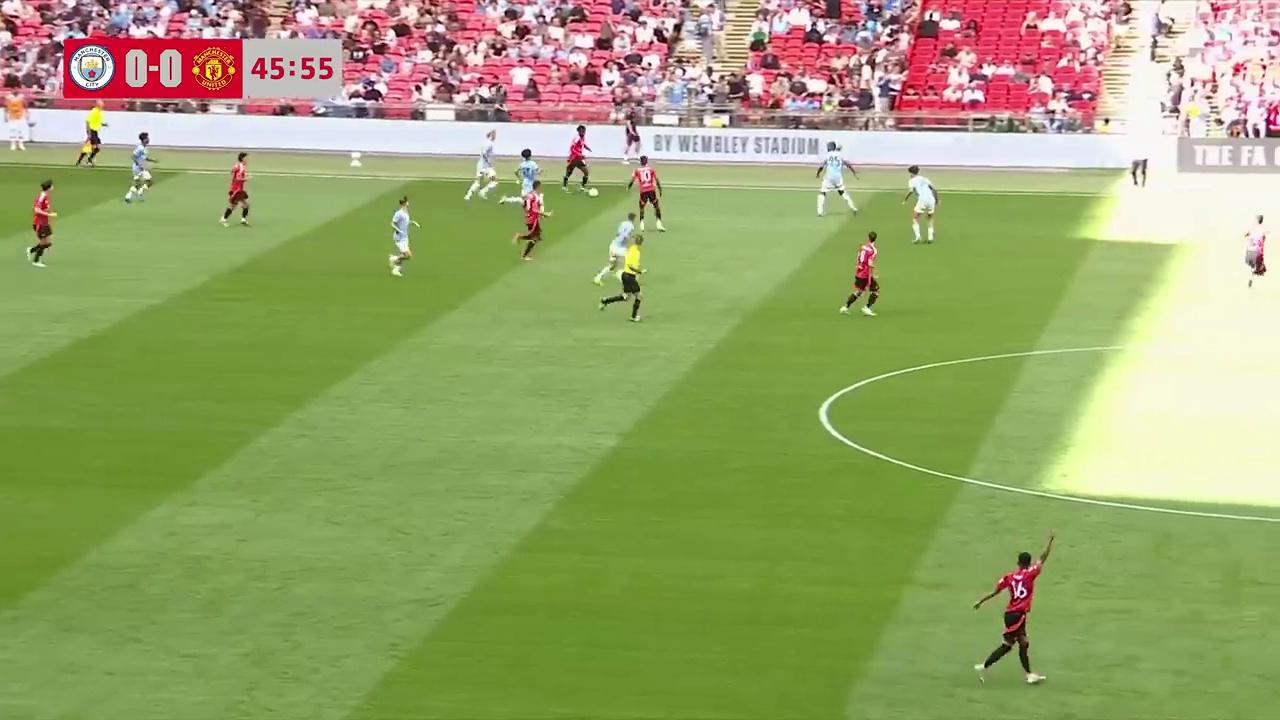ball: (587, 184, 600, 198)
player: (970, 551, 1047, 686), (810, 136, 854, 217), (839, 232, 880, 317), (595, 213, 639, 292), (628, 155, 665, 232), (902, 166, 938, 243), (517, 185, 551, 261), (219, 152, 251, 227), (389, 195, 419, 275), (28, 181, 56, 266), (1242, 212, 1272, 291), (561, 131, 594, 193), (464, 147, 498, 203), (125, 134, 151, 203), (514, 146, 540, 201)
referee: (600, 229, 647, 322), (76, 107, 102, 167)
